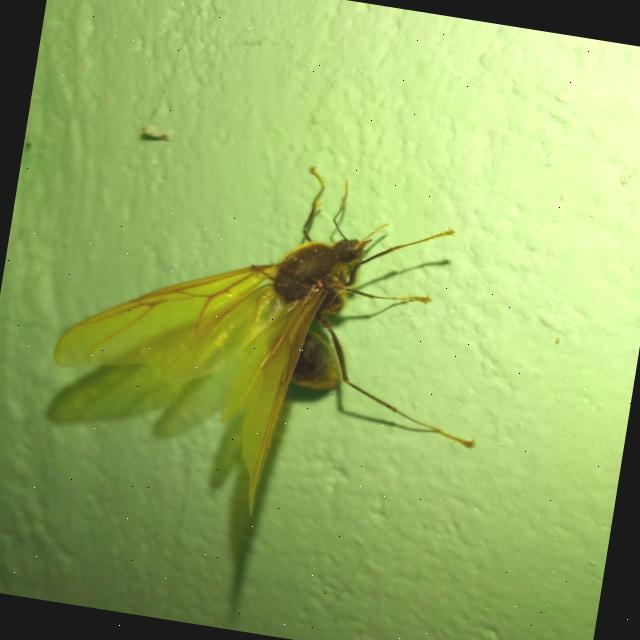Alive-Male-Alate: (34, 130, 514, 550)
